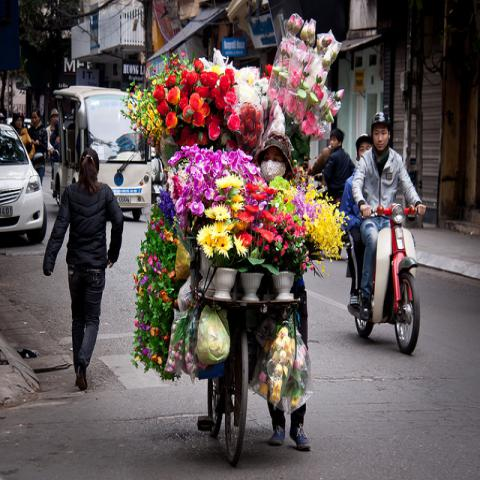car: (2, 123, 46, 246)
motorcycle: (345, 191, 435, 362), (308, 170, 348, 255)
